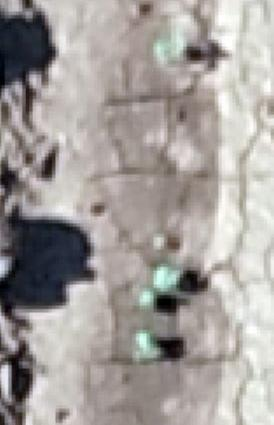cotton: (156, 34, 185, 59), (154, 267, 179, 289), (137, 333, 154, 353), (141, 293, 155, 306)
